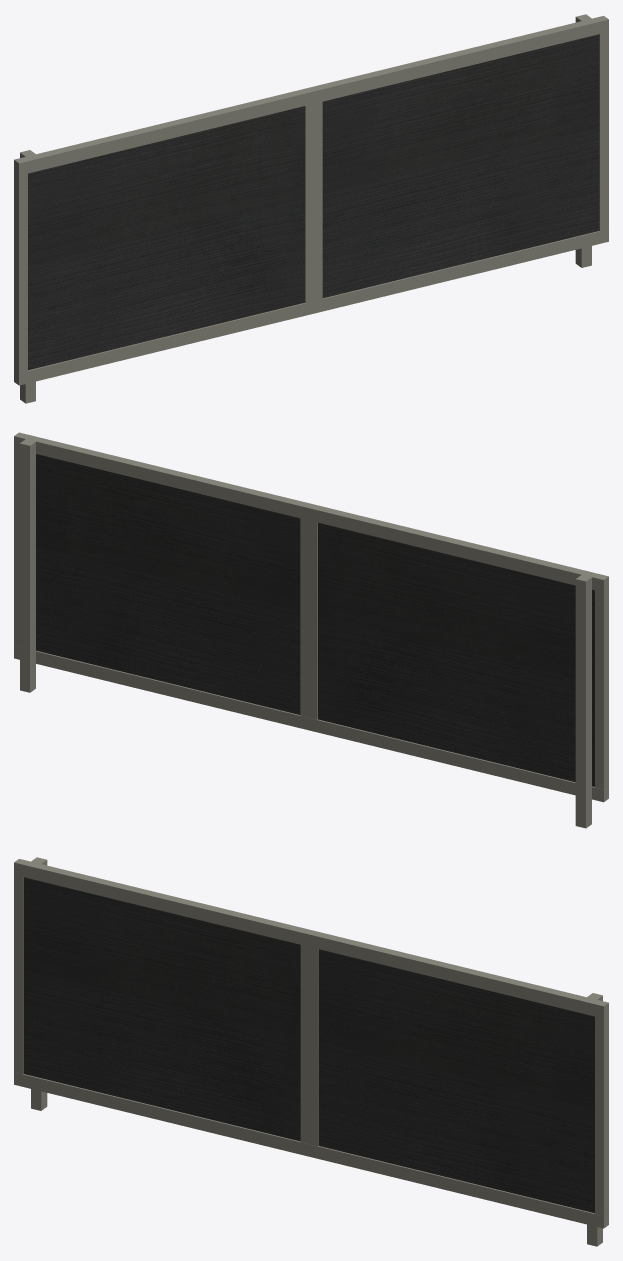
Rendered from EAFboarddesignryoumen_w1998-h720_charcoalgrey.fbx.
3 views of the same model, one above another, from view 1: azimuth 30°, elevation 25°; view 2: azimuth 150°, elevation 25°; view 3: azimuth 330°, elevation 25° (orthographic).
Visible parts, largest first — view 1: EAFboarddesignryoumen_w1998-h720_charcoalgray; view 2: EAFboarddesignryoumen_w1998-h720_charcoalgray; view 3: EAFboarddesignryoumen_w1998-h720_charcoalgray.
Boxes of the visible parts, x1,y1,x2,y2 form: EAFboarddesignryoumen_w1998-h720_charcoalgray: (14, 14, 608, 403); EAFboarddesignryoumen_w1998-h720_charcoalgray: (14, 432, 608, 828); EAFboarddesignryoumen_w1998-h720_charcoalgray: (14, 857, 608, 1246).
Size of the model in its own units: 200 by 80 by 6.5.
3 materials, 3 textured.
